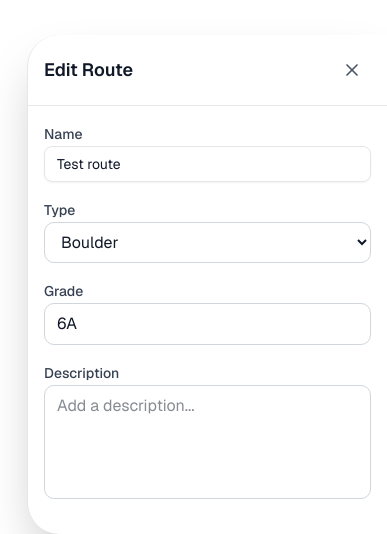
Test: RouteEditSidebar › renders Type before Grade and preserves the canonical grade when Type changes
Select "Sport" in the dropdown labelled "Type": point(208, 242) [44,222,371,263]
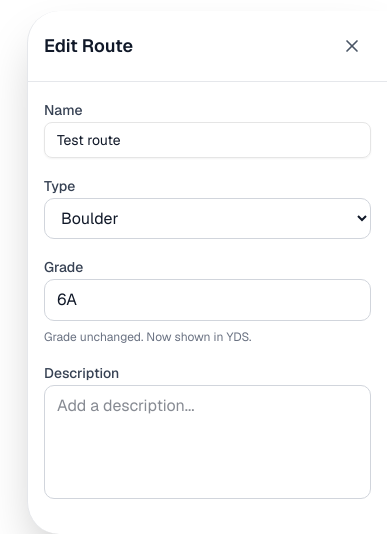
Check: the message reads "Grade unchanged. Now shown in YDS.", box [44,329,251,345]
